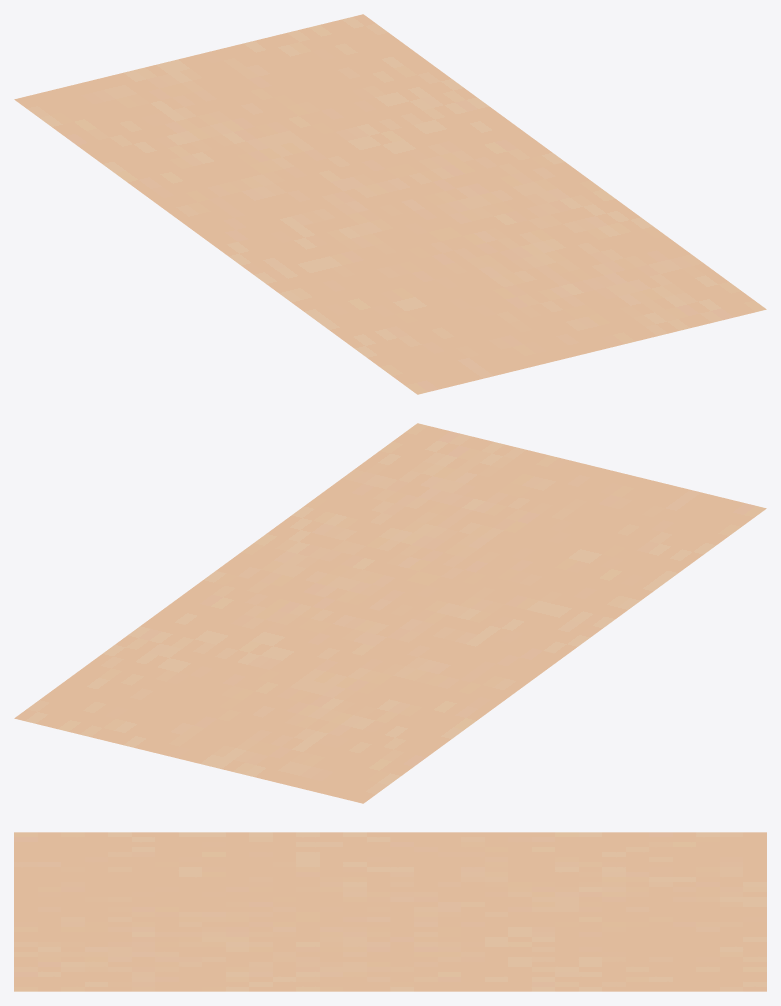
The picture shows the model from 3 angles, top to bottom: view 1: azimuth 30°, elevation 25°; view 2: azimuth 150°, elevation 25°; view 3: azimuth 270°, elevation 25°; orthographic projection. The views are drawn at different scales.
Visible parts, largest first — view 1: mesh00; view 2: mesh00; view 3: mesh00.
Part boxes in pixels (<box>): mesh00: <box>14,14,766,394</box>; mesh00: <box>14,423,766,803</box>; mesh00: <box>14,832,766,991</box>.
Size of the model in its own units: 1000 by 0 by 2000.
